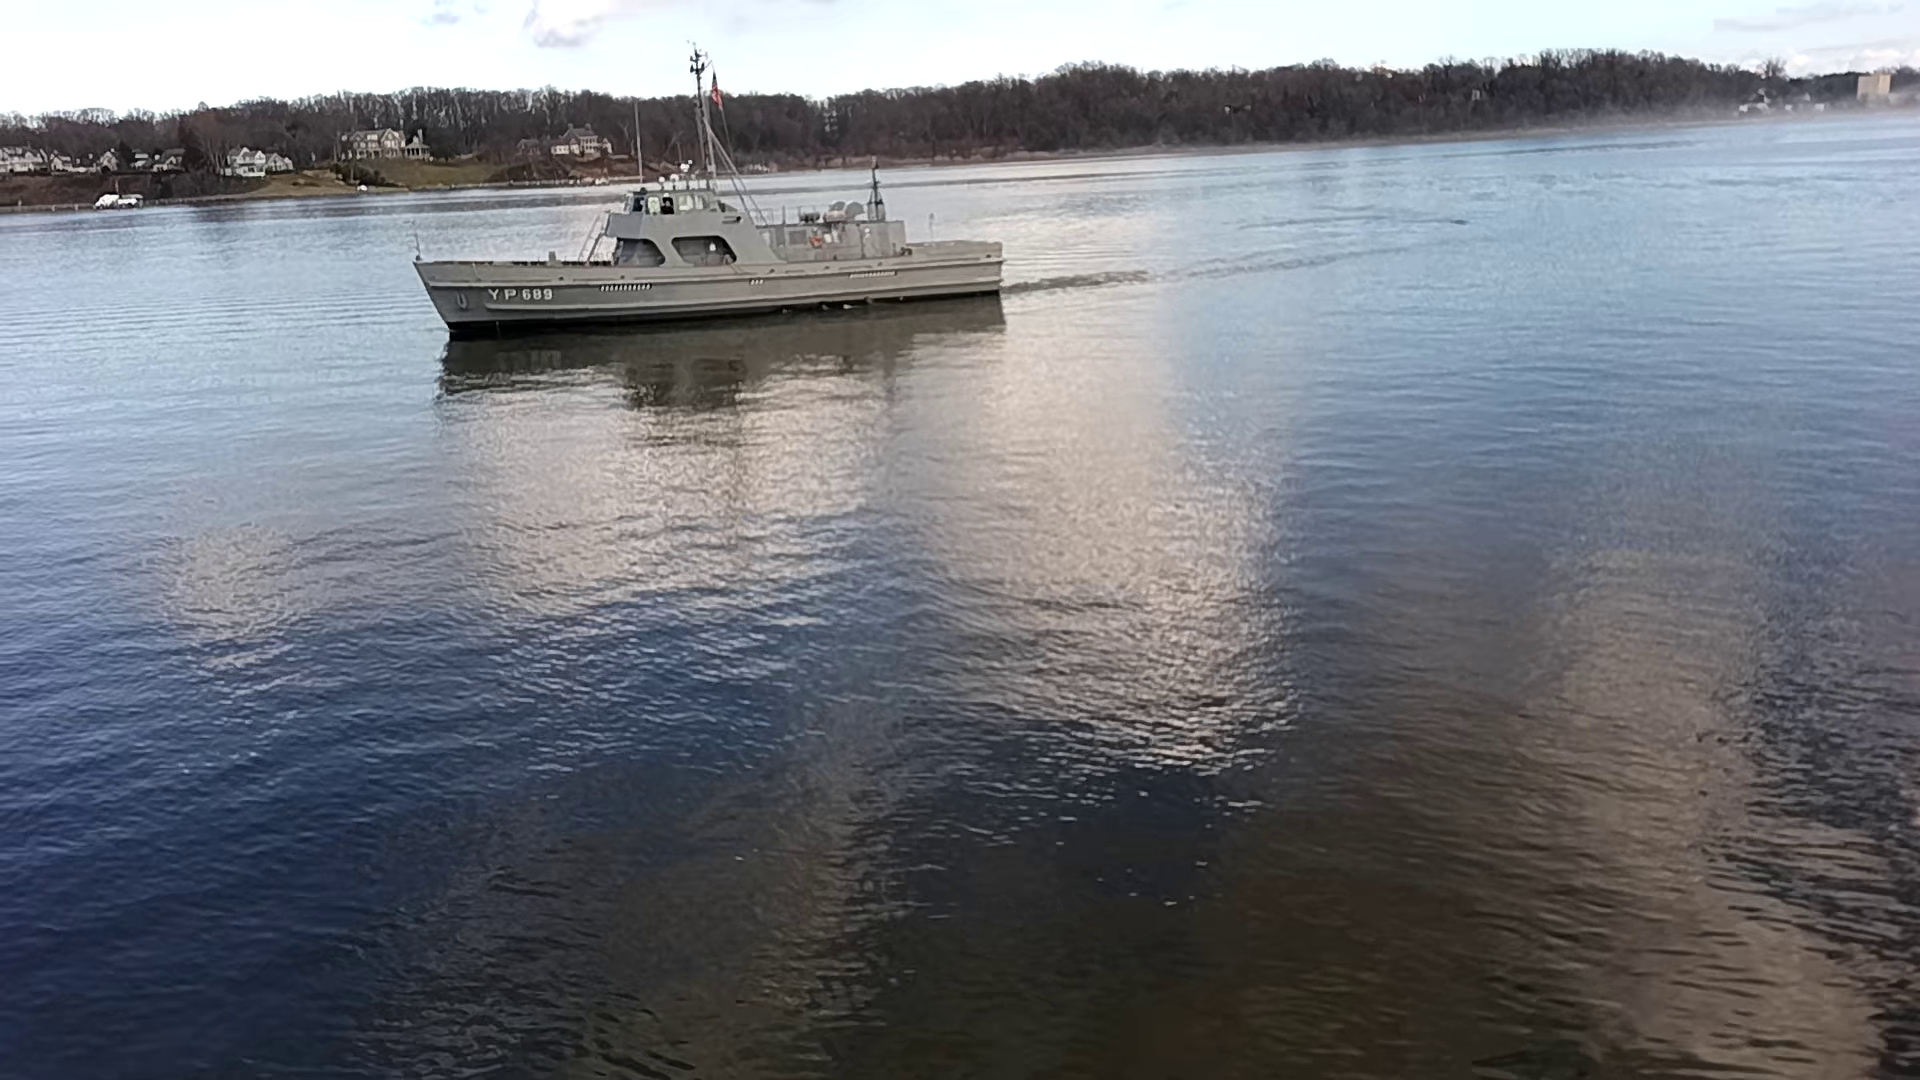YP689: (411, 49, 1006, 335)
